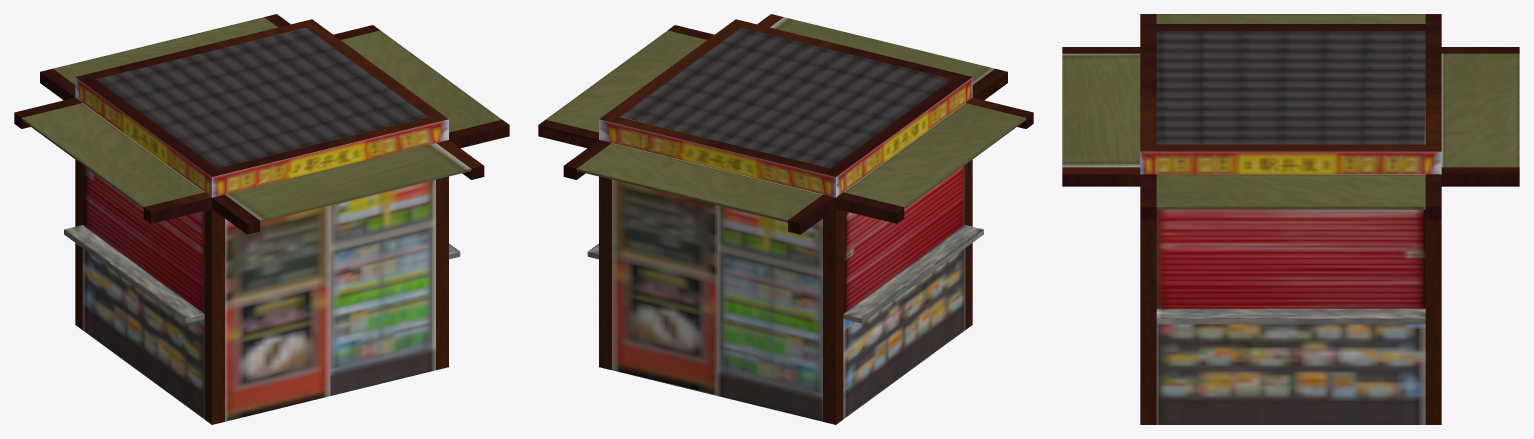
The model's file is psx_japanese_food_vendor_kiosk.glb.
3 views of the same model, side by side, from view 1: azimuth 30°, elevation 25°; view 2: azimuth 150°, elevation 25°; view 3: azimuth 270°, elevation 25° (orthographic). The views are drawn at different scales.
Parts seen in each view (by area): view 1: Cube, Plane; view 2: Cube, Plane; view 3: Cube, Plane.
Part boxes in pixels (bbox=[...]): Cube: bbox=[14, 14, 509, 424]; Plane: bbox=[83, 165, 204, 313]; Cube: bbox=[538, 14, 1033, 424]; Plane: bbox=[843, 165, 964, 313]; Cube: bbox=[1062, 14, 1519, 424]; Plane: bbox=[1156, 209, 1425, 308].
Size of the model in its own units: 33.97 by 22.42 by 33.99.
2 materials, 2 textured.
